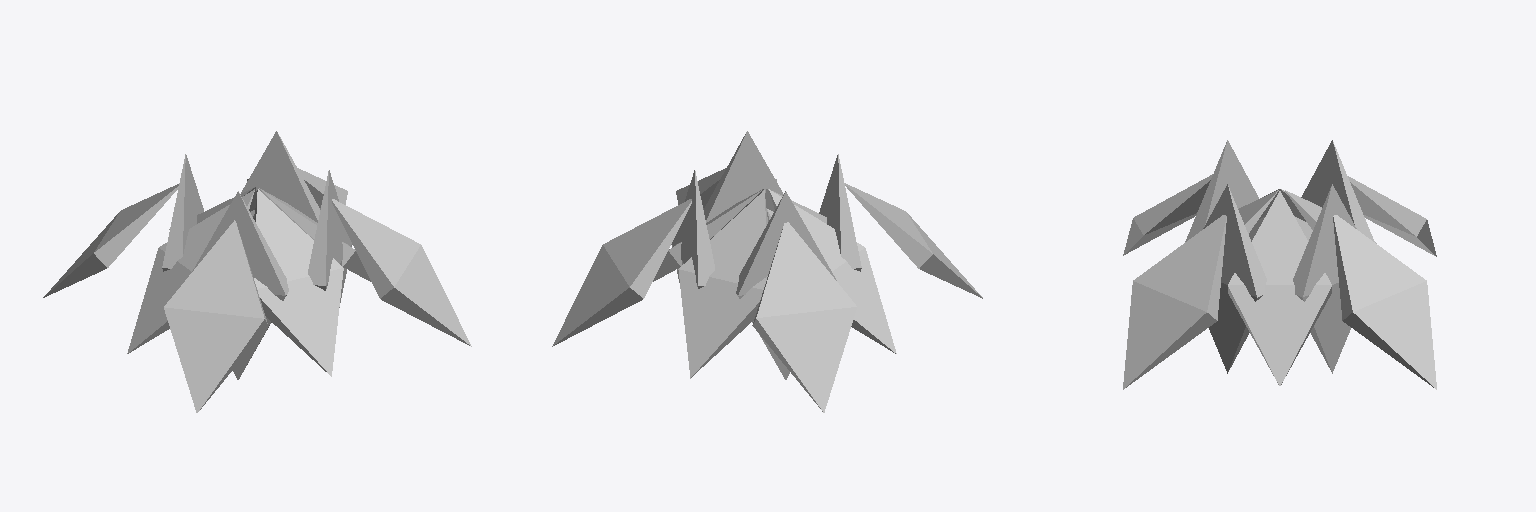
Rendered from enemy02.obj.
The picture shows the model from 3 angles: view 1: azimuth 30°, elevation 25°; view 2: azimuth 150°, elevation 25°; view 3: azimuth 270°, elevation 25°; orthographic projection.
Parts seen in each view (by area): view 1: petal.001_立方体.002, petal_c_立方体.009, petal_b.001_立方体.012, petal_立方体.010, petal_c.001_立方体.011, 立方体.002_立方体.005, 立方体_立方体.003, 立方体.001_立方体.004, shield_立方体.006, petal_b_立方体.008, petal_a.001_立方体.013; view 2: petal_c.001_立方体.011, petal_a_立方体.007, petal_a.001_立方体.013, petal_立方体.010, petal.001_立方体.002, 立方体.001_立方体.004, shield_立方体.006, 立方体_立方体.003, 立方体.002_立方体.005, petal_b_立方体.008, petal_b.001_立方体.012; view 3: petal_b.001_立方体.012, petal_a.001_立方体.013, petal_b_立方体.008, 立方体_立方体.003, 立方体.001_立方体.004, petal.001_立方体.002, petal_c.001_立方体.011, 立方体.002_立方体.005, shield_立方体.006, petal_c_立方体.009, petal_a_立方体.007.
Boxes of the visible parts, x1,y1,x2,y2 form: petal.001_立方体.002: [164, 220, 267, 412]; petal_c_立方体.009: [254, 189, 343, 376]; petal_b.001_立方体.012: [332, 199, 471, 346]; petal_立方体.010: [127, 189, 254, 353]; petal_c.001_立方体.011: [43, 184, 178, 297]; 立方体.002_立方体.005: [192, 191, 288, 379]; 立方体_立方体.003: [241, 131, 319, 222]; 立方体.001_立方体.004: [308, 170, 352, 307]; shield_立方体.006: [162, 154, 203, 271]; petal_b_立方体.008: [259, 188, 370, 281]; petal_a.001_立方体.013: [247, 168, 347, 209]; petal_c.001_立方体.011: [752, 222, 856, 412]; petal_a_立方体.007: [678, 190, 767, 378]; petal_a.001_立方体.013: [552, 199, 691, 346]; petal_立方体.010: [769, 189, 896, 353]; petal.001_立方体.002: [845, 183, 982, 298]; 立方体.001_立方体.004: [704, 131, 783, 222]; shield_立方体.006: [736, 191, 836, 379]; 立方体_立方体.003: [671, 170, 714, 288]; 立方体.002_立方体.005: [819, 154, 861, 271]; petal_b_立方体.008: [653, 188, 764, 281]; petal_b.001_立方体.012: [676, 168, 776, 209]; petal_b.001_立方体.012: [1123, 215, 1226, 389]; petal_a.001_立方体.013: [1333, 215, 1436, 389]; petal_b_立方体.008: [1228, 191, 1331, 385]; 立方体_立方体.003: [1293, 184, 1356, 373]; 立方体.001_立方体.004: [1203, 184, 1266, 373]; petal.001_立方体.002: [1123, 174, 1212, 255]; petal_c.001_立方体.011: [1348, 176, 1436, 256]; 立方体.002_立方体.005: [1185, 140, 1258, 241]; shield_立方体.006: [1301, 140, 1374, 241]; petal_c_立方体.009: [1238, 190, 1278, 233]; petal_a_立方体.007: [1285, 190, 1376, 243].
Size of the model in its own units: 3.03 by 2 by 3.